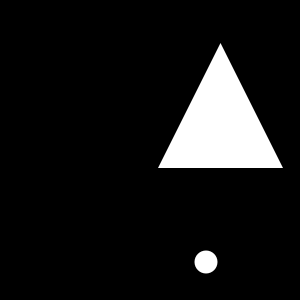rectangle: (194, 250, 218, 274)
triangle: (158, 43, 283, 168)
